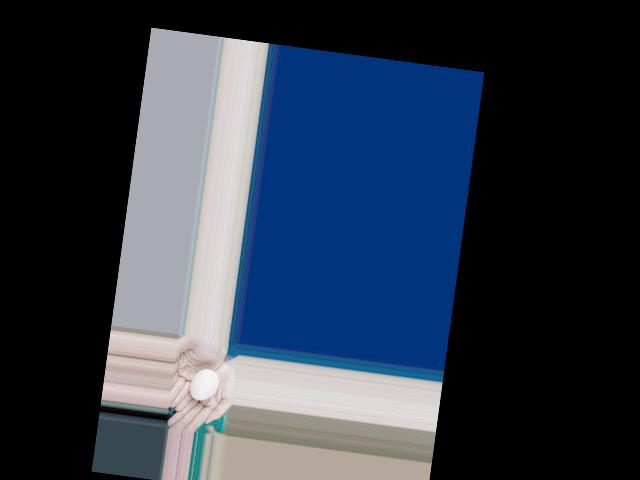egg: (188, 367, 219, 402)
